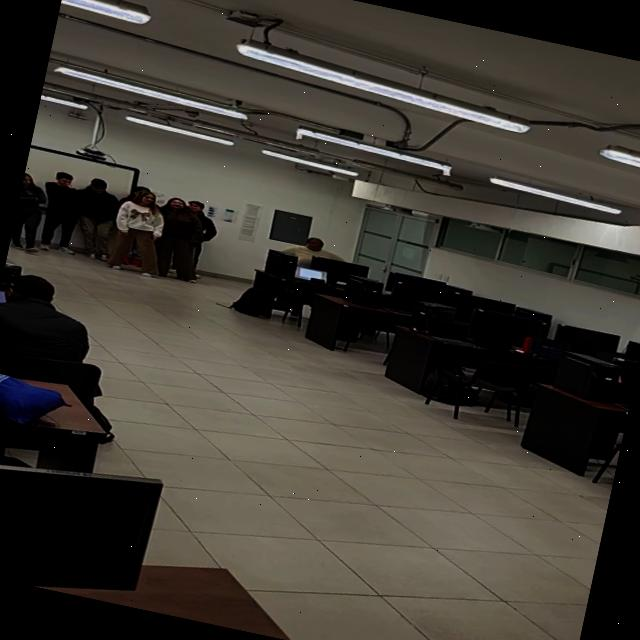Persona: (98, 183, 174, 279), (144, 194, 212, 286), (31, 169, 90, 256), (67, 174, 124, 264), (162, 197, 222, 281), (8, 172, 54, 254)
